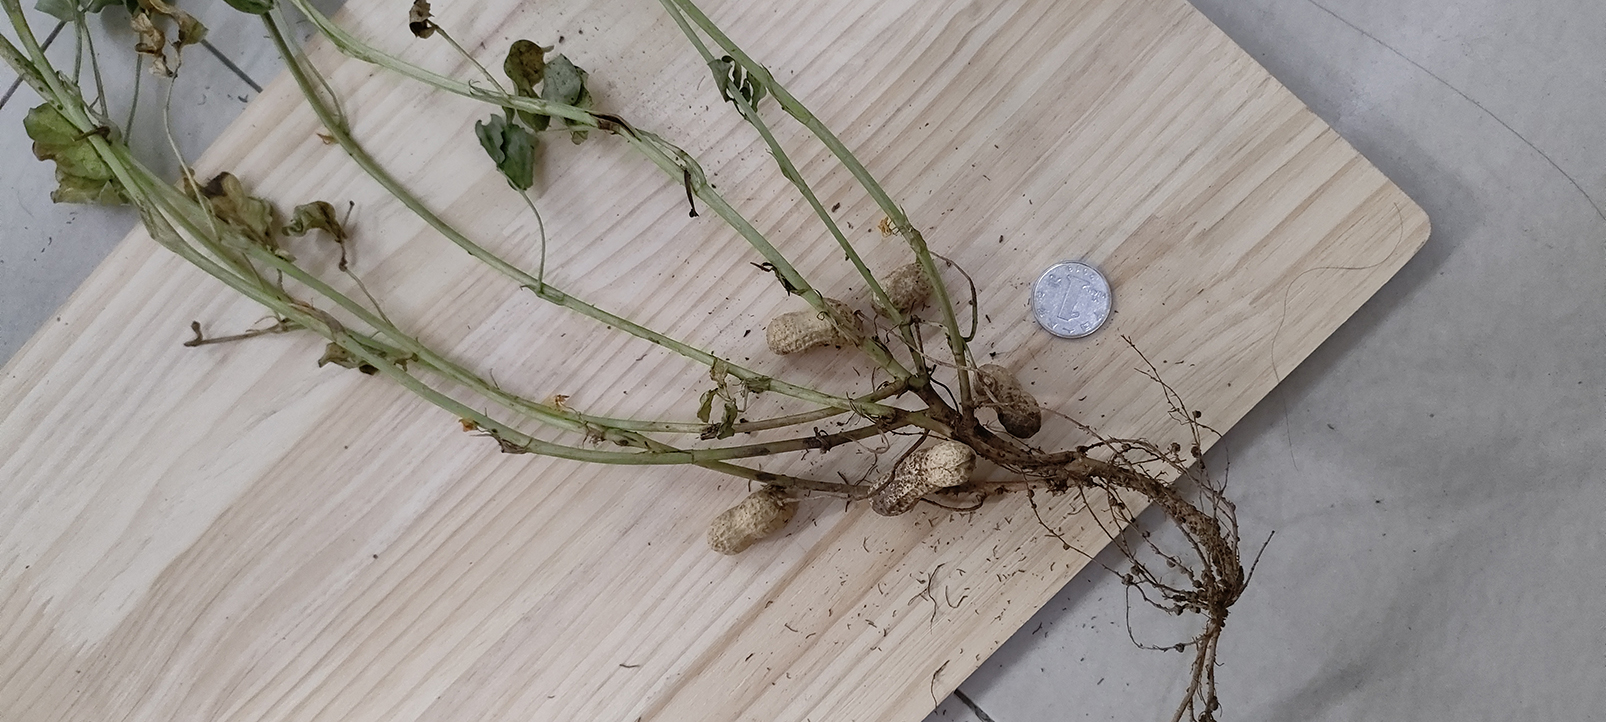h: (868, 440, 979, 517), (709, 490, 793, 555), (768, 302, 863, 355), (873, 269, 930, 315)
l: (973, 363, 1042, 436)
